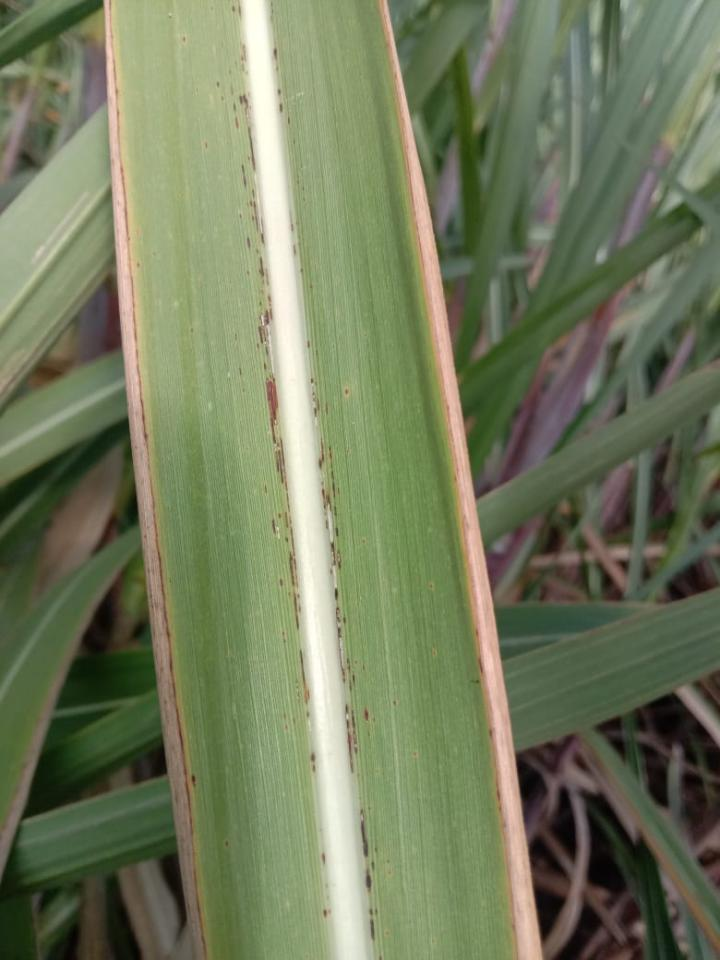Rust: (175, 32, 323, 775), (304, 332, 422, 781), (355, 795, 441, 958), (261, 0, 296, 150), (284, 159, 318, 293), (316, 823, 338, 922), (217, 1, 246, 27), (427, 642, 443, 667), (357, 533, 375, 555), (182, 323, 200, 339), (424, 578, 439, 592), (220, 836, 233, 850)
